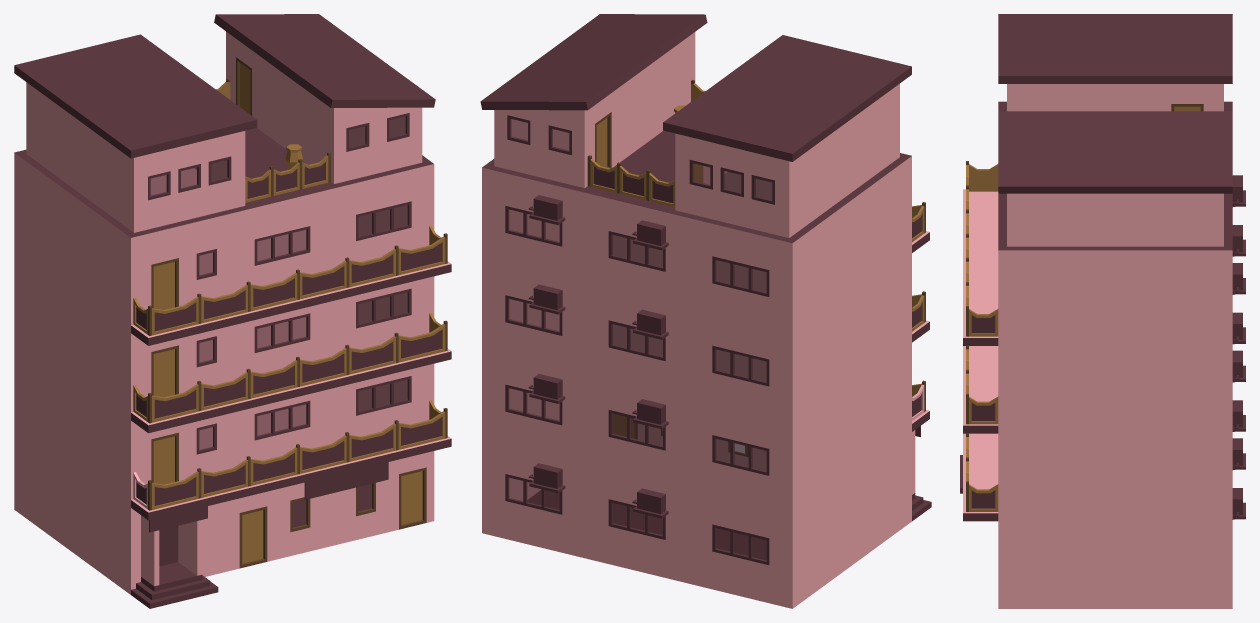
The model's file is building-street2-india.fbx.
3 views of the same model, side by side, from view 1: azimuth 30°, elevation 25°; view 2: azimuth 150°, elevation 25°; view 3: azimuth 270°, elevation 25° (orthographic). The views are drawn at different scales.
Visible parts, largest first — view 1: building-street2-india; view 2: building-street2-india; view 3: building-street2-india.
Boxes of the visible parts, x1,y1,x2,y2 form: building-street2-india: [14, 14, 451, 608]; building-street2-india: [480, 14, 931, 608]; building-street2-india: [960, 14, 1245, 608].
Size of the model in its own units: 12.06 by 16.86 by 9.75.
